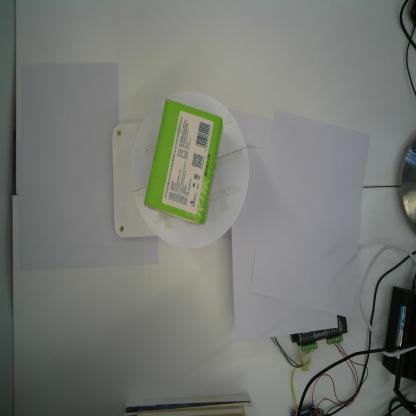Tissue: (141, 96, 224, 228)
